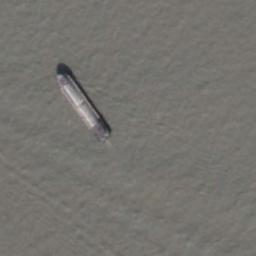boat: (55, 67, 111, 145)
